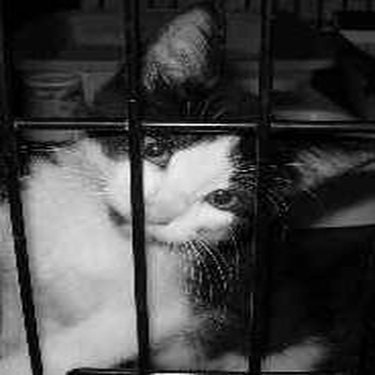cat: (1, 1, 305, 367)
